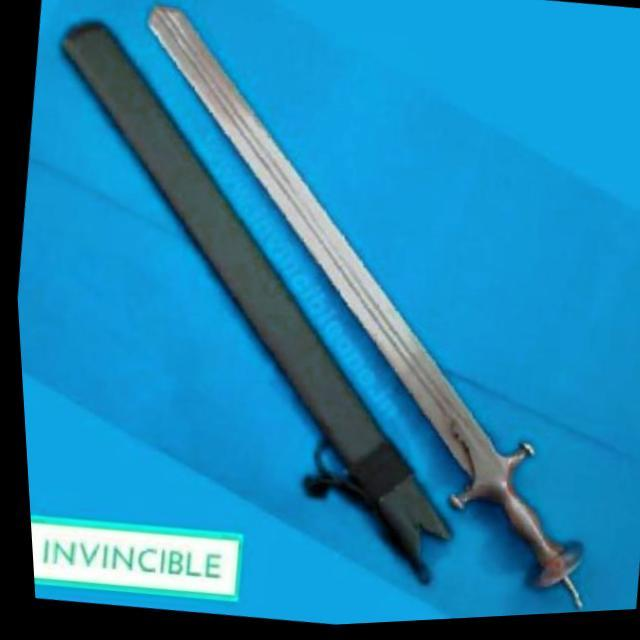weapon: (1, 0, 514, 609)
